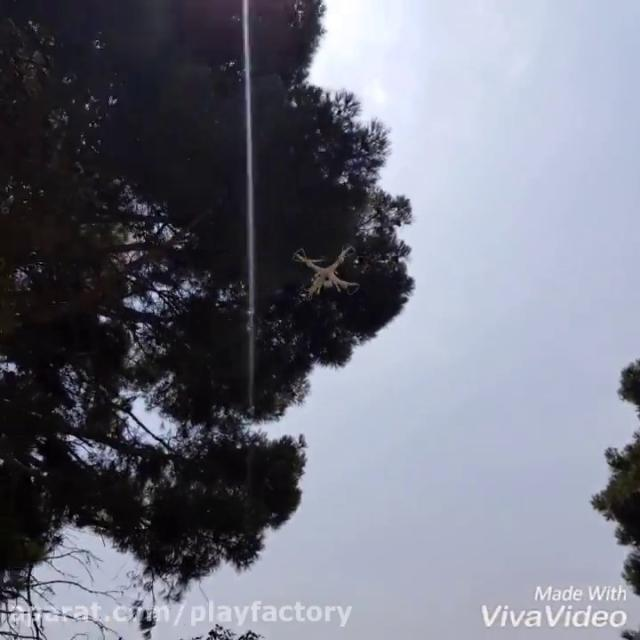drone: (290, 241, 364, 303)
